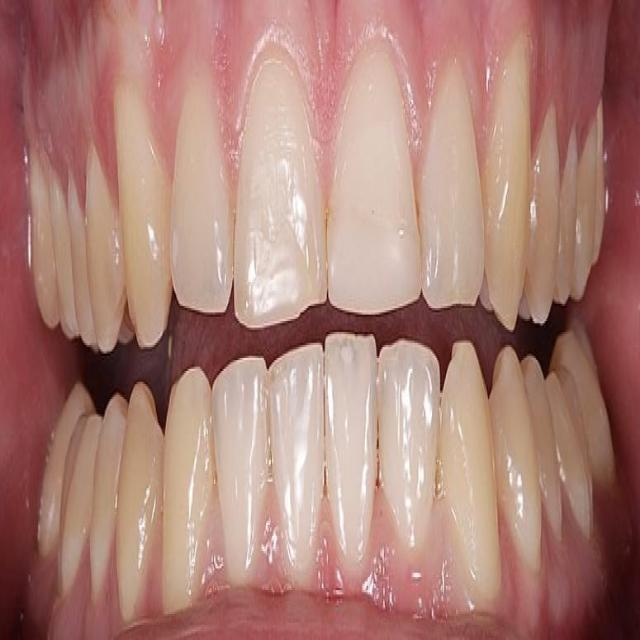1st Molar: (547, 361, 595, 542), (58, 410, 102, 588), (574, 115, 605, 302), (50, 164, 77, 341)
1st Premolar: (489, 349, 542, 574), (116, 384, 164, 625), (84, 150, 126, 351), (524, 108, 560, 323)
2nd Molar: (557, 323, 616, 485), (37, 383, 91, 556), (28, 158, 53, 328)
2nd Premolar: (88, 391, 128, 597), (522, 353, 563, 538), (66, 170, 92, 343), (557, 118, 577, 306)
Canine: (440, 339, 503, 610), (111, 76, 173, 347), (480, 37, 533, 335), (162, 369, 214, 617)
Central Incisor: (327, 39, 422, 317), (235, 49, 326, 330), (268, 345, 326, 588), (324, 334, 377, 582)
Lateral Incisor: (419, 59, 486, 310), (170, 65, 233, 312), (378, 341, 441, 560), (211, 356, 270, 584)
